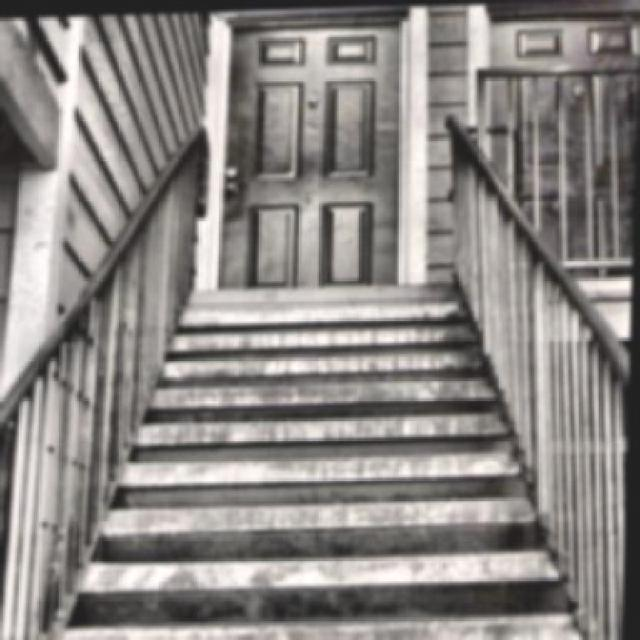stair: (174, 252, 506, 628)
